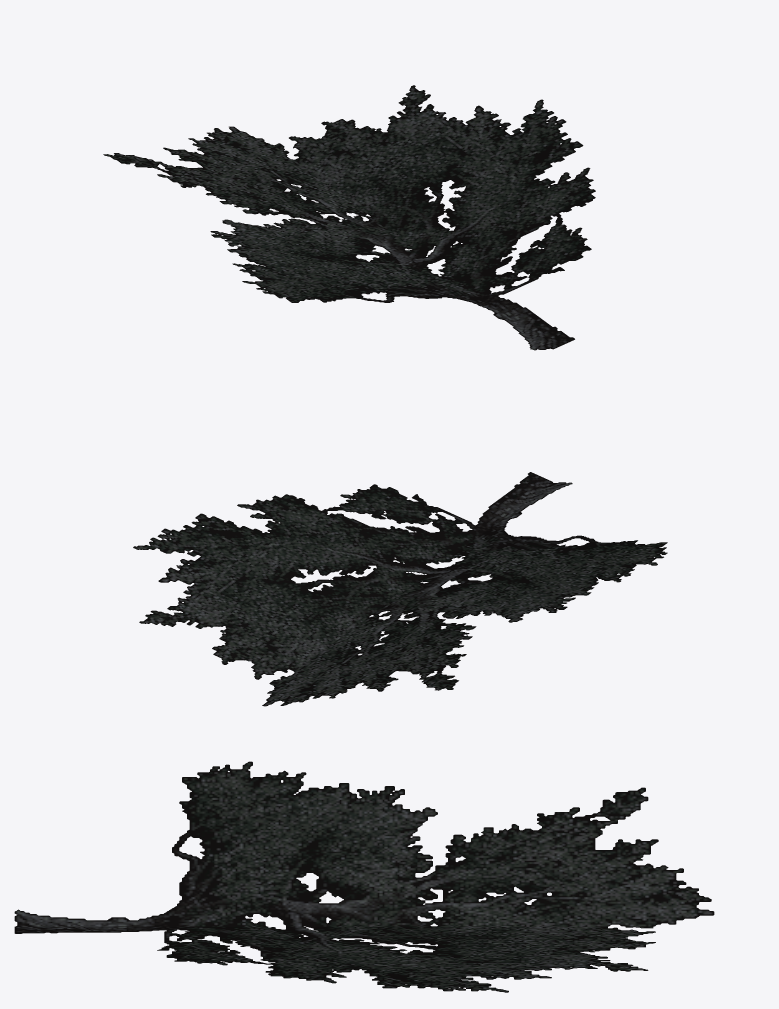
The model's file is SM_EC_Tree_Card_Bent_07.fbx.
The picture shows the model from 3 angles, top to bottom: view 1: azimuth 30°, elevation 25°; view 2: azimuth 150°, elevation 25°; view 3: azimuth 270°, elevation 25°; orthographic projection. The views are drawn at different scales.
Parts seen in each view (by area): view 1: SM_EC_Tree_Card_Bent_07; view 2: SM_EC_Tree_Card_Bent_07; view 3: SM_EC_Tree_Card_Bent_07.
Part boxes in pixels (x1=…): SM_EC_Tree_Card_Bent_07: x1=103, y1=85, x2=595, y2=350; SM_EC_Tree_Card_Bent_07: x1=133, y1=472, x2=667, y2=706; SM_EC_Tree_Card_Bent_07: x1=14, y1=761, x2=714, y2=992.
Bounding box in the file's own units: 3.45 × 4.63 × 0.3409.
